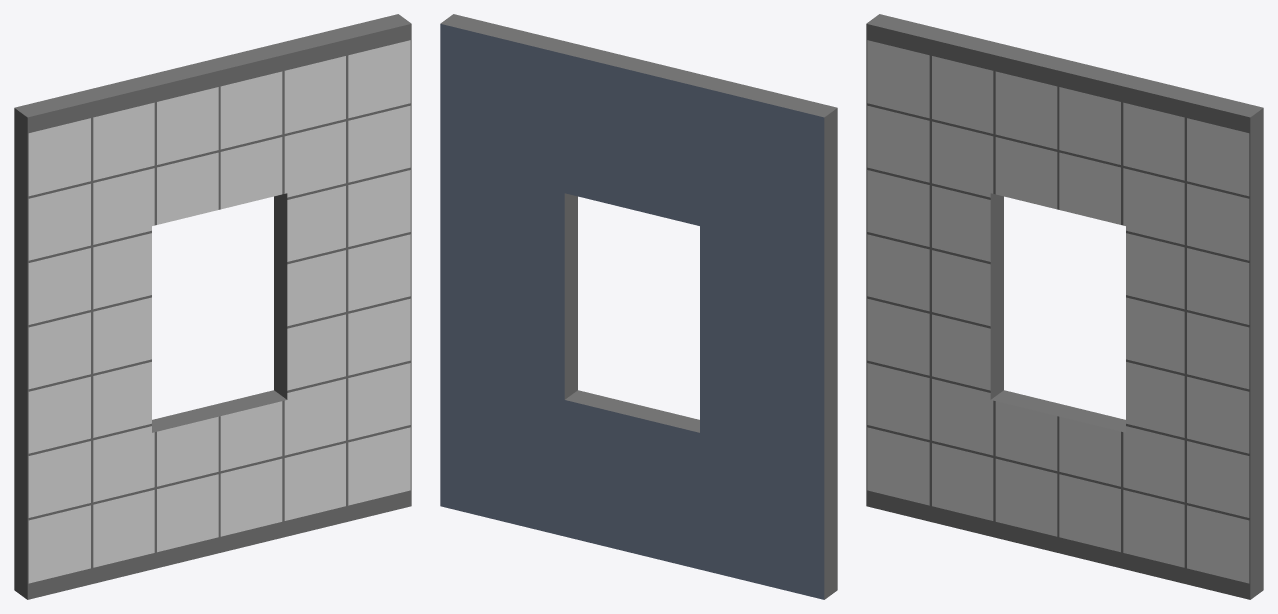
The model's file is Wall3_C7_03.fbx.
The picture shows the model from 3 angles, left to right: view 1: azimuth 30°, elevation 25°; view 2: azimuth 150°, elevation 25°; view 3: azimuth 330°, elevation 25°; orthographic projection.
Visible parts, largest first — view 1: Wall3_C7_03; view 2: Wall3_C7_03; view 3: Wall3_C7_03.
Boxes of the visible parts, bbox=[...] form: Wall3_C7_03: bbox=[14, 14, 411, 599]; Wall3_C7_03: bbox=[440, 14, 837, 599]; Wall3_C7_03: bbox=[866, 14, 1263, 599].
Size of the model in its own units: 250 by 300 by 15.
